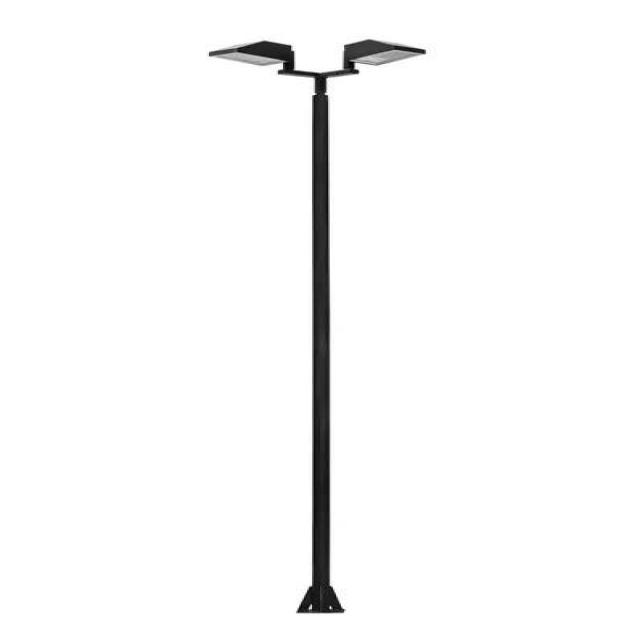Pole: (209, 40, 426, 614)
